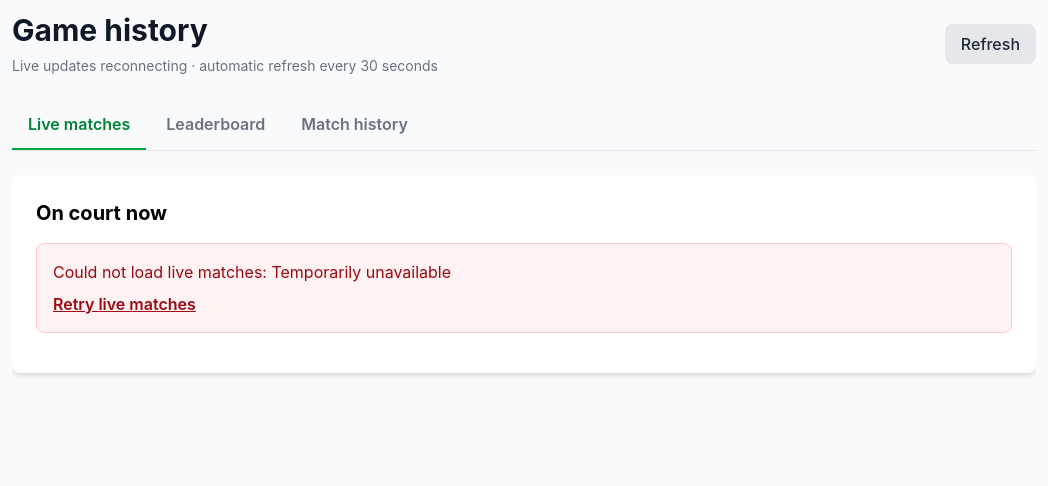
Test: functional game-history tabs › shows request failures rather than fake empty lists, and supports retry
Expected: the message shows "Temporarily unavailable", [271,262,451,282]
Click the button "Retry live matches" at (124, 304), box [53,292,196,316]
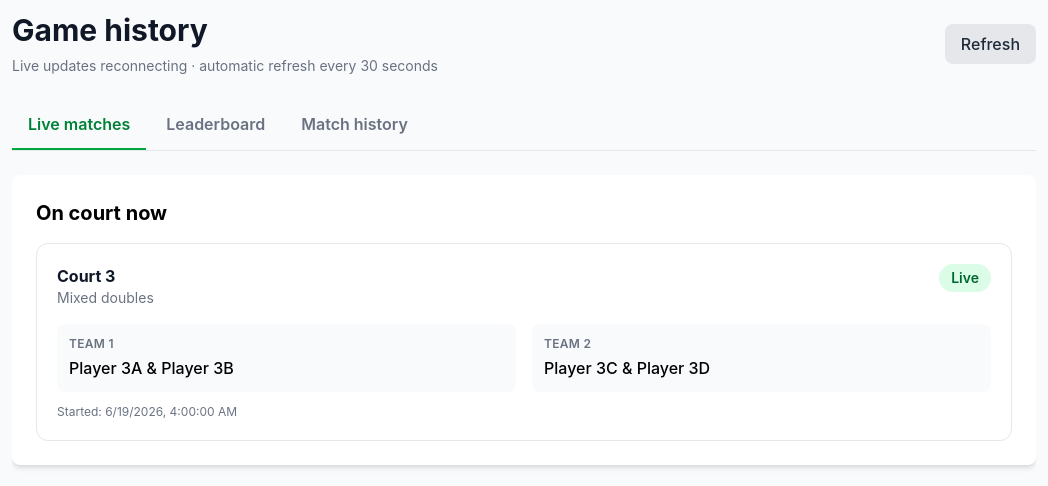
Now the text "Player 3A & Player 3B" is shown, box [69,358,234,378]
